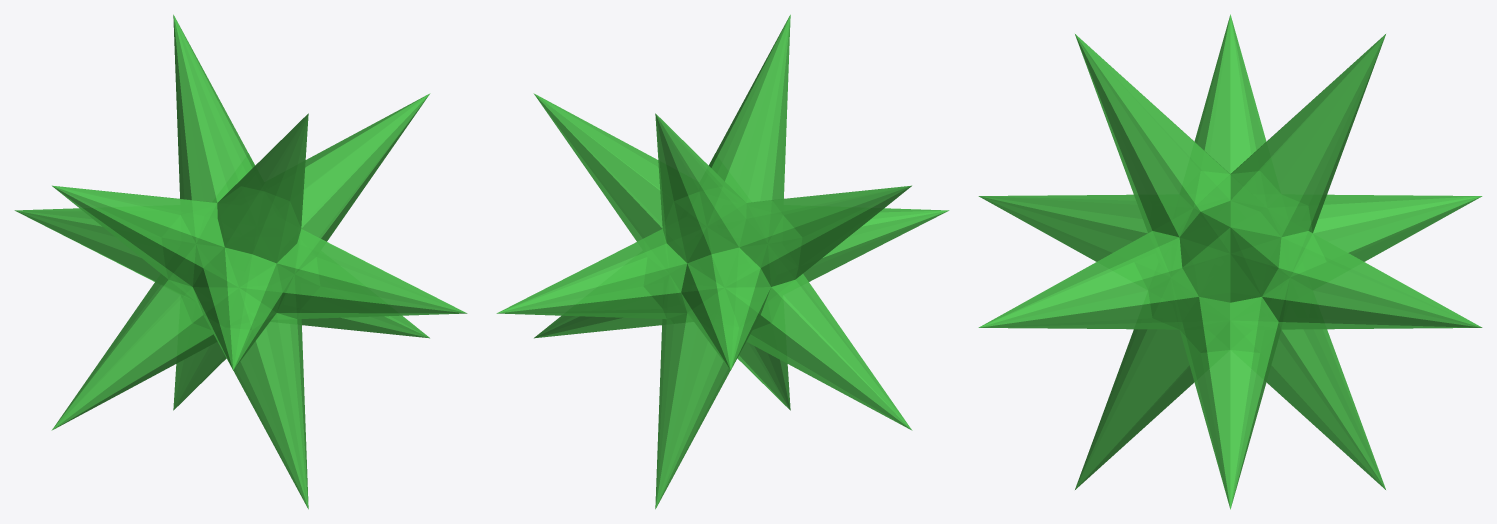
File: MedialDisdyakisTriacontahedron.obj
3 renders of one model, left to right at view 1: azimuth 30°, elevation 25°; view 2: azimuth 150°, elevation 25°; view 3: azimuth 270°, elevation 25°, orthographic. The views are drawn at different scales.
Bounding box in the file's own units: 11.71 × 11.71 × 11.71.
